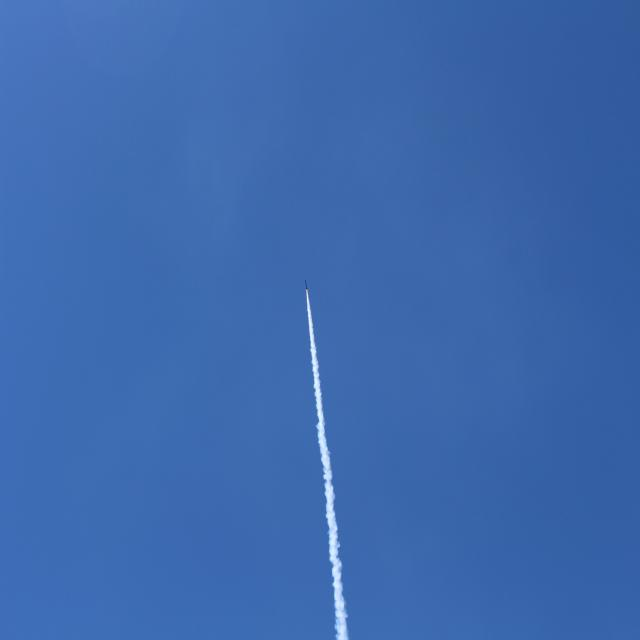Rocket: (305, 278, 308, 290)
